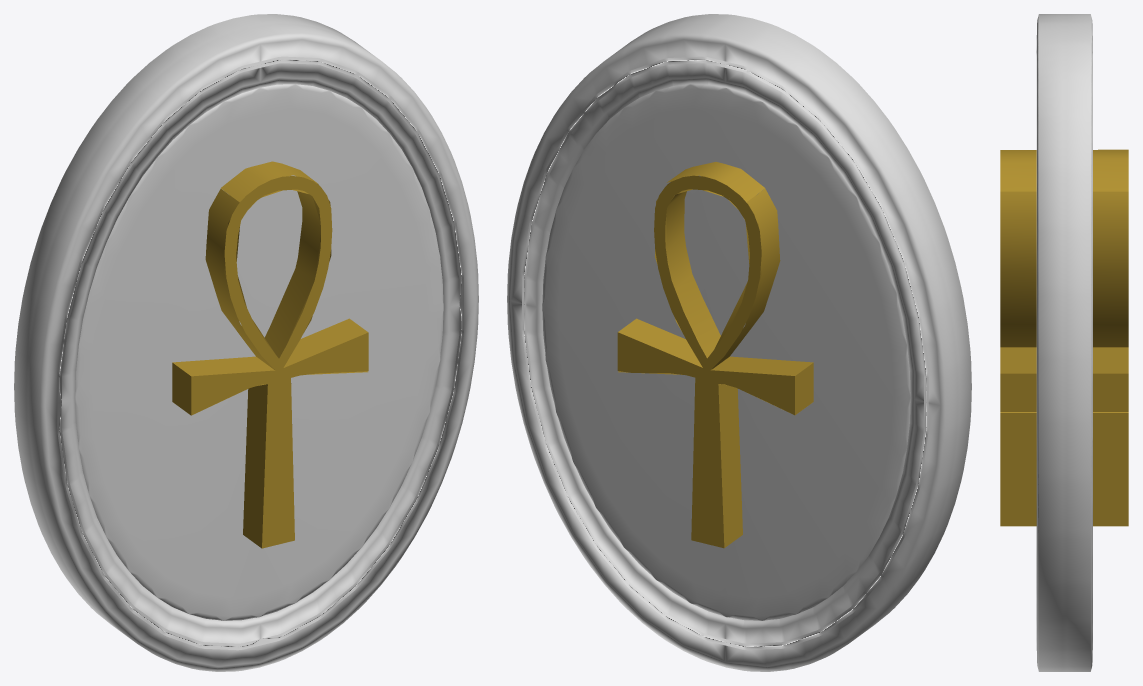
File: Ankh_key.fbx
The picture shows the model from 3 angles, left to right: view 1: azimuth 30°, elevation 25°; view 2: azimuth 150°, elevation 25°; view 3: azimuth 270°, elevation 25°; orthographic projection.
Parts seen in each view (by area): view 1: Cylinder, Ankh; view 2: Cylinder, Ankh; view 3: Cylinder, Ankh.
Boxes of the visible parts, x1,y1,x2,y2 form: Cylinder: (14, 14, 478, 671); Ankh: (172, 161, 368, 548); Cylinder: (507, 14, 971, 671); Ankh: (617, 162, 813, 548); Cylinder: (1036, 14, 1092, 671); Ankh: (1000, 149, 1128, 526).
Size of the model in its own units: 6.23 by 8.55 by 1.6.
